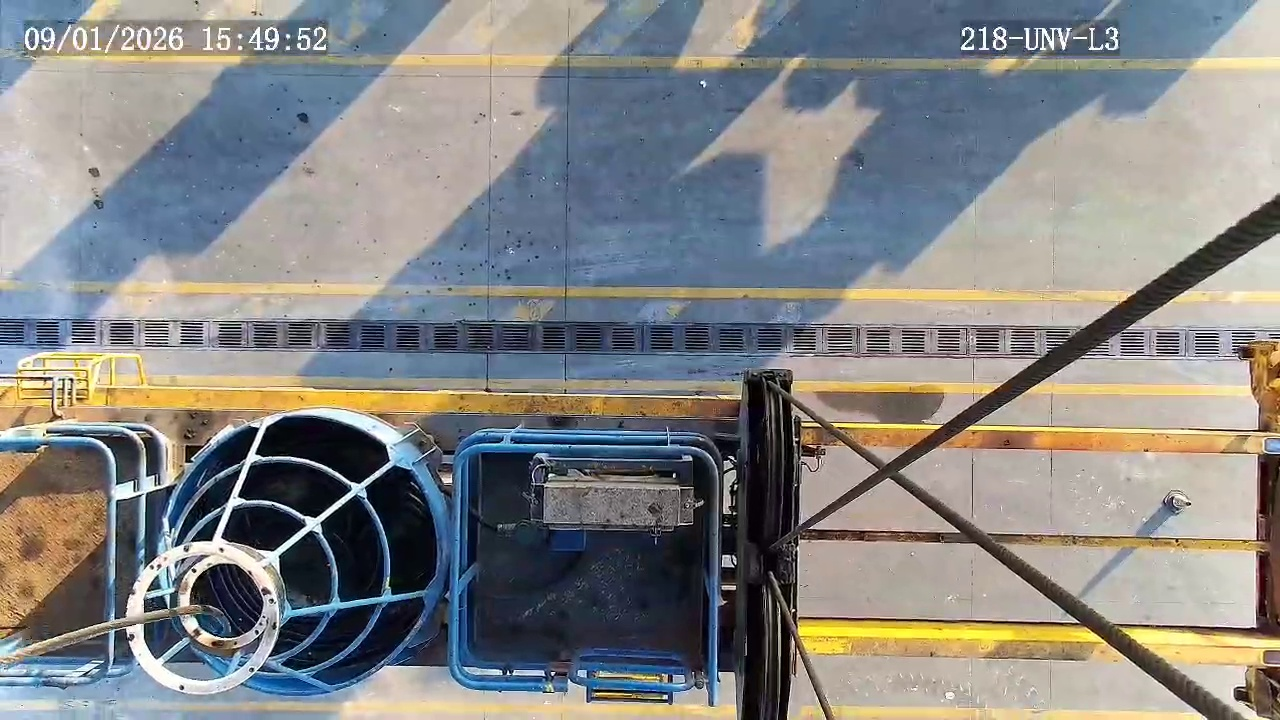right: (124, 542, 280, 695)
